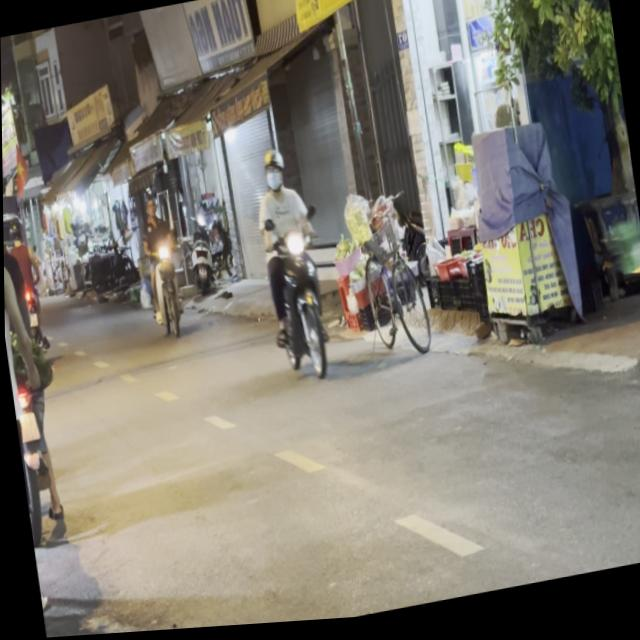helmet: (261, 149, 288, 194)
licenseplate: (2, 176, 74, 547), (246, 142, 337, 390)
nohelmet: (18, 410, 40, 441)
